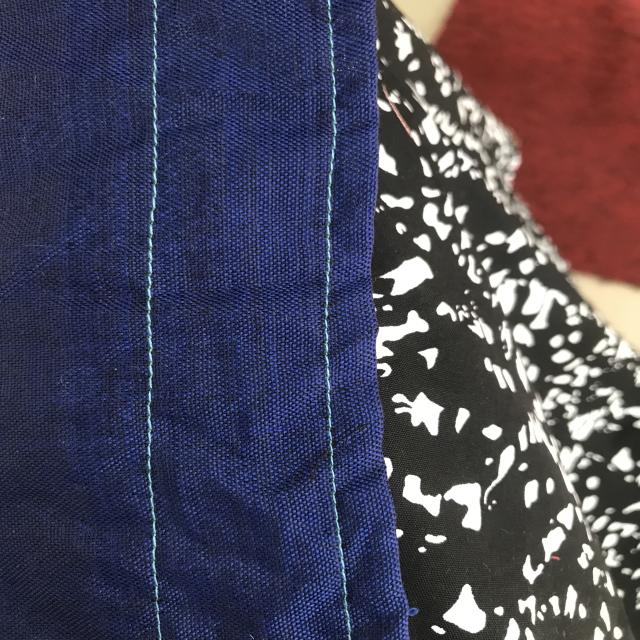good: (130, 262, 172, 510), (310, 37, 347, 224), (146, 47, 176, 233), (318, 256, 342, 472)
